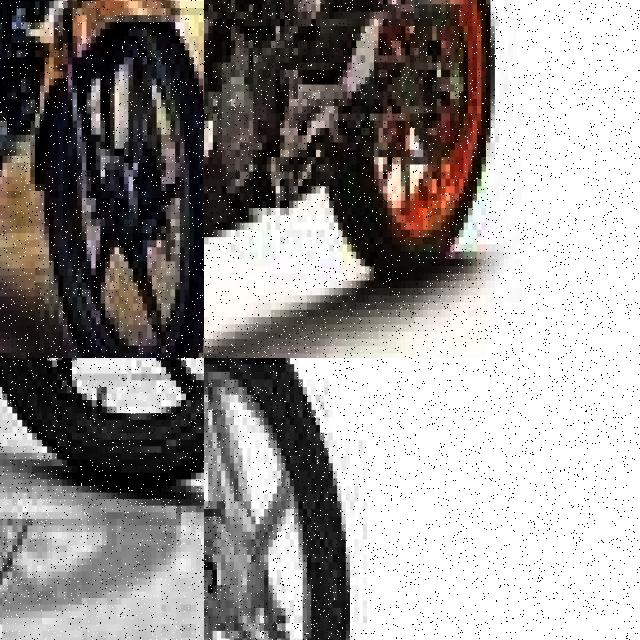bike: (204, 0, 513, 358), (0, 0, 204, 358), (204, 358, 358, 640), (0, 358, 204, 492)
